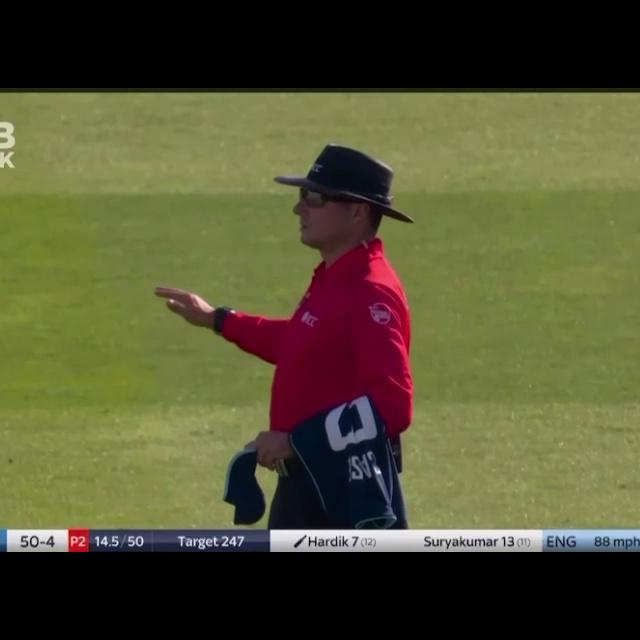umpire: (149, 129, 440, 531)
